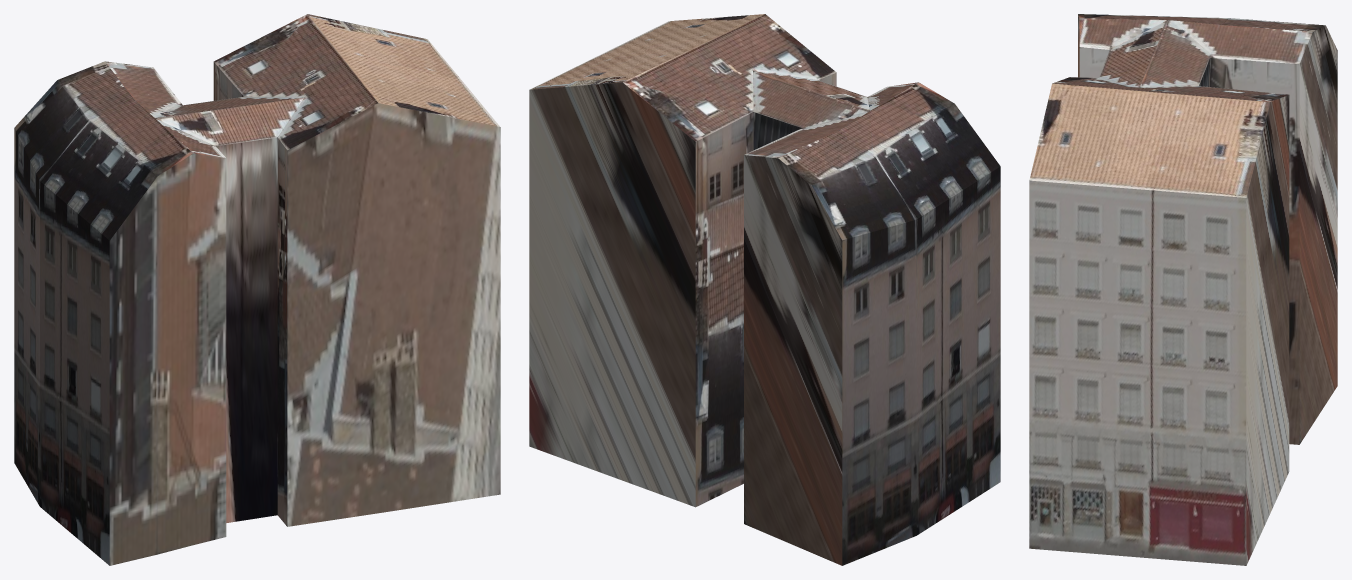
The picture shows the model from 3 angles, left to right: view 1: azimuth 30°, elevation 25°; view 2: azimuth 150°, elevation 25°; view 3: azimuth 270°, elevation 25°; orthographic projection. The views are drawn at different scales.
Parts seen in each view (by area): view 1: Z_UP; view 2: Z_UP; view 3: Z_UP.
Part boxes in pixels (x1,y1,x2,y2): Z_UP: (14, 14, 500, 565); Z_UP: (529, 14, 1000, 565); Z_UP: (1029, 14, 1337, 565).
Bounding box in the file's own units: 28 × 27.32 × 18.57.
Materials: 2 (1 with a texture image).
